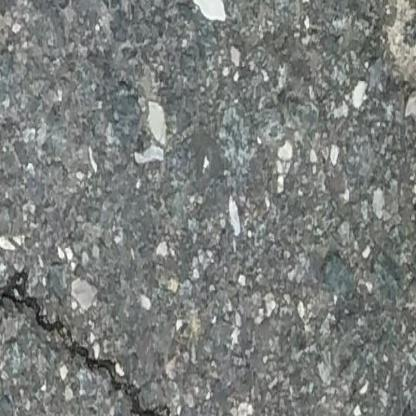Cracks: (0, 264, 191, 416)
